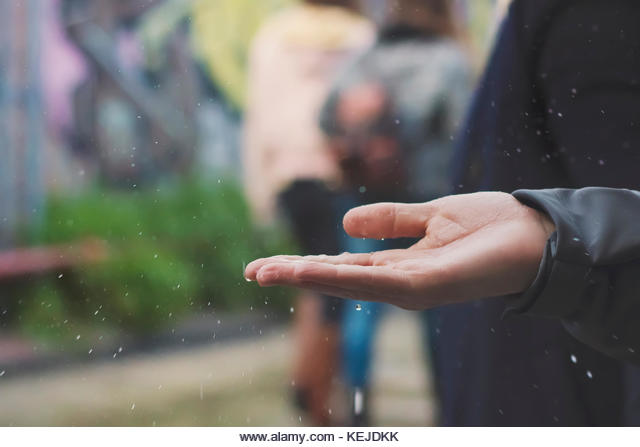non-diseased: (244, 196, 534, 314)
